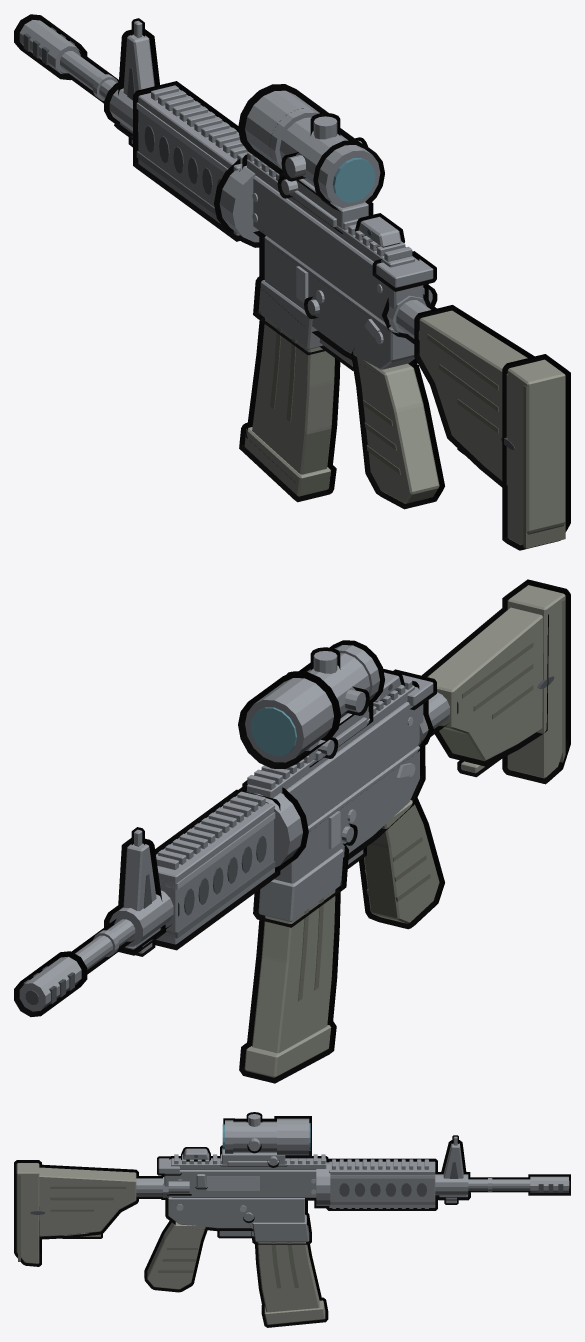
Rendered from M4Carbine.glb.
3 renders of one model, top to bottom at view 1: azimuth 30°, elevation 25°; view 2: azimuth 150°, elevation 25°; view 3: azimuth 270°, elevation 25°, orthographic. The views are drawn at different scales.
Parts seen in each view (by area): view 1: Stock, Upper, Magazine, Handguard, Optic, Lower, Grip, Barrel, Stock_Outline, Optic_Outline, Barrel_Outline, Handguard_Outline (+4 smaller); view 2: Stock, Handguard, Magazine, Upper, Optic, Lower, Barrel, Grip, Stock_Outline, Optic_Outline, Barrel_Outline, Magazine_Outline (+4 smaller); view 3: Stock, Upper, Handguard, Lower, Magazine, Optic, Barrel, Grip, Stock_Outline, Barrel_Outline, Magazine_Outline, Handguard_Outline (+4 smaller).
Boxes of the visible parts, x1,y1,x2,y2 form: Stock: (387, 295, 565, 548); Upper: (247, 152, 433, 325); Magazine: (244, 318, 334, 496); Handguard: (136, 85, 259, 242); Optic: (245, 90, 380, 229); Lower: (258, 236, 414, 369); Grip: (356, 355, 439, 503); Barrel: (19, 20, 154, 143); Stock_Outline: (382, 294, 570, 550); Optic_Outline: (238, 84, 384, 233); Barrel_Outline: (14, 14, 159, 147); Handguard_Outline: (133, 81, 259, 247); Stock: (417, 585, 565, 778); Handguard: (156, 791, 302, 944); Magazine: (244, 889, 335, 1077); Upper: (247, 672, 433, 825); Optic: (245, 645, 379, 762); Lower: (258, 745, 419, 921); Barrel: (19, 829, 173, 1011); Grip: (364, 800, 439, 923); Stock_Outline: (418, 579, 570, 784); Optic_Outline: (238, 640, 384, 769); Barrel_Outline: (14, 827, 179, 1016); Magazine_Outline: (239, 883, 340, 1083); Stock: (16, 1163, 169, 1263); Upper: (158, 1148, 326, 1197); Handguard: (316, 1159, 435, 1208); Lower: (168, 1196, 309, 1241); Magazine: (257, 1242, 325, 1324); Optic: (222, 1114, 310, 1166); Barrel: (435, 1136, 569, 1203); Grip: (147, 1222, 205, 1289); Stock_Outline: (14, 1160, 167, 1266); Barrel_Outline: (435, 1135, 570, 1204); Magazine_Outline: (254, 1239, 328, 1327); Handguard_Outline: (314, 1158, 437, 1210).
Bounding box in the file's own units: 0.3938 × 1.87 × 4.54.
